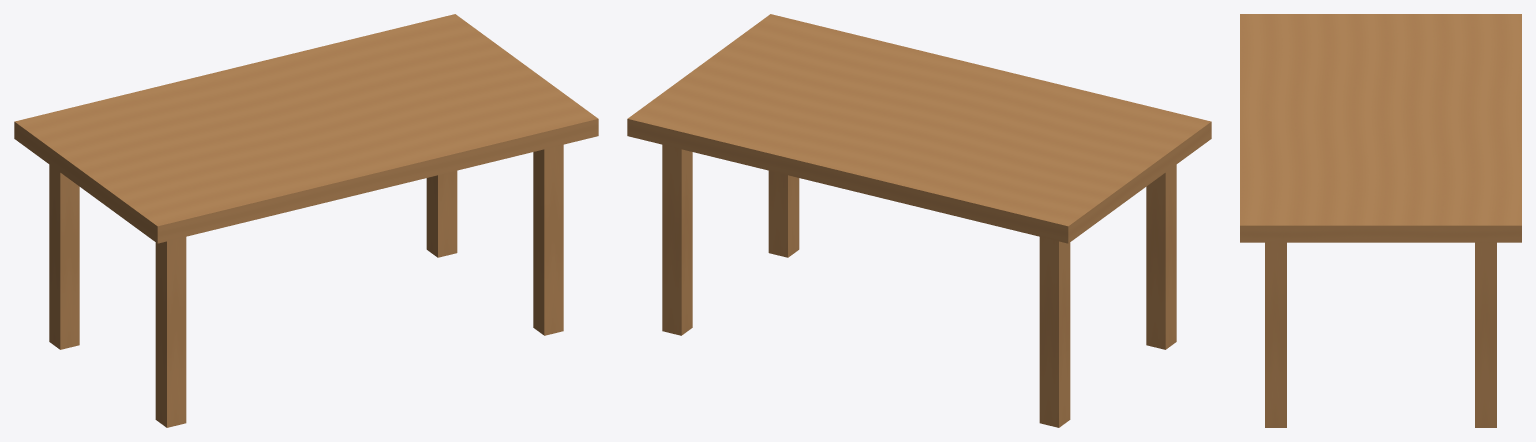
The model's file is mesa_madeira_simples-v3.glb.
The picture shows the model from 3 angles, left to right: view 1: azimuth 30°, elevation 25°; view 2: azimuth 150°, elevation 25°; view 3: azimuth 270°, elevation 25°; orthographic projection.
Visible parts, largest first — view 1: MesaMadeiraLisa; view 2: MesaMadeiraLisa; view 3: MesaMadeiraLisa.
Part boxes in pixels (x1,y1,x2,y2): MesaMadeiraLisa: [14, 14, 598, 427]; MesaMadeiraLisa: [627, 14, 1211, 427]; MesaMadeiraLisa: [1240, 14, 1521, 427].
Size of the model in its own units: 1.6 by 0.75 by 0.9.
Materials: 1 (1 with a texture image).
